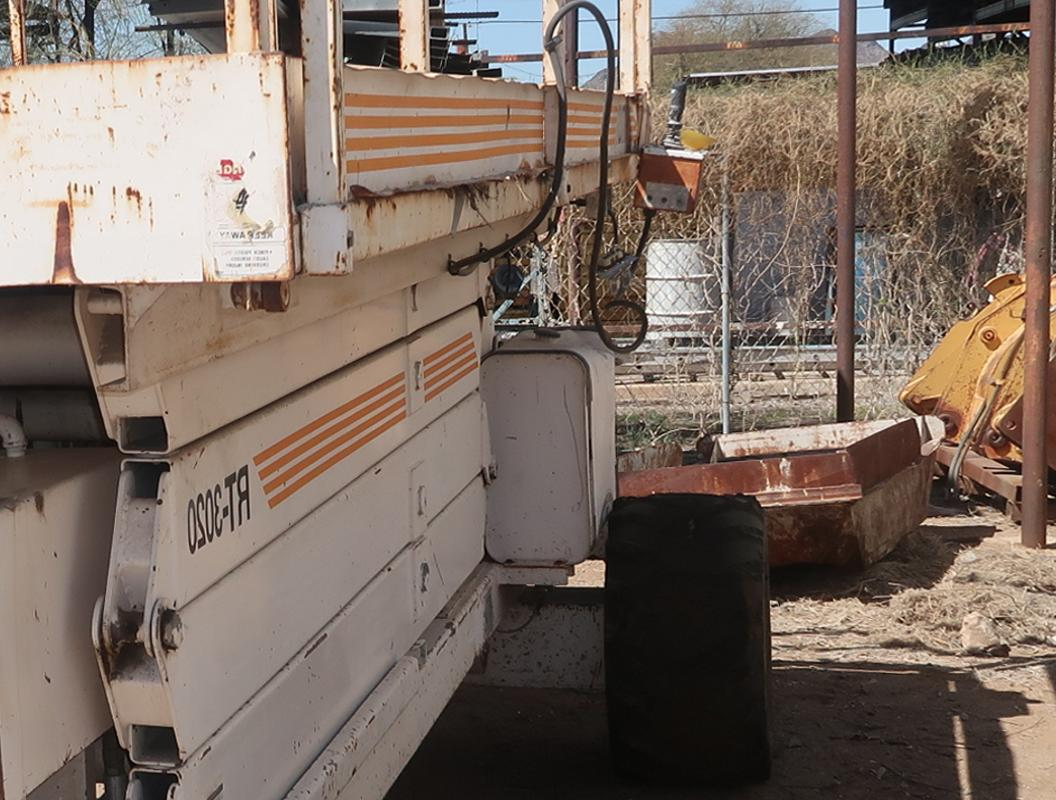rust: (3, 63, 212, 226), (353, 176, 597, 229)
